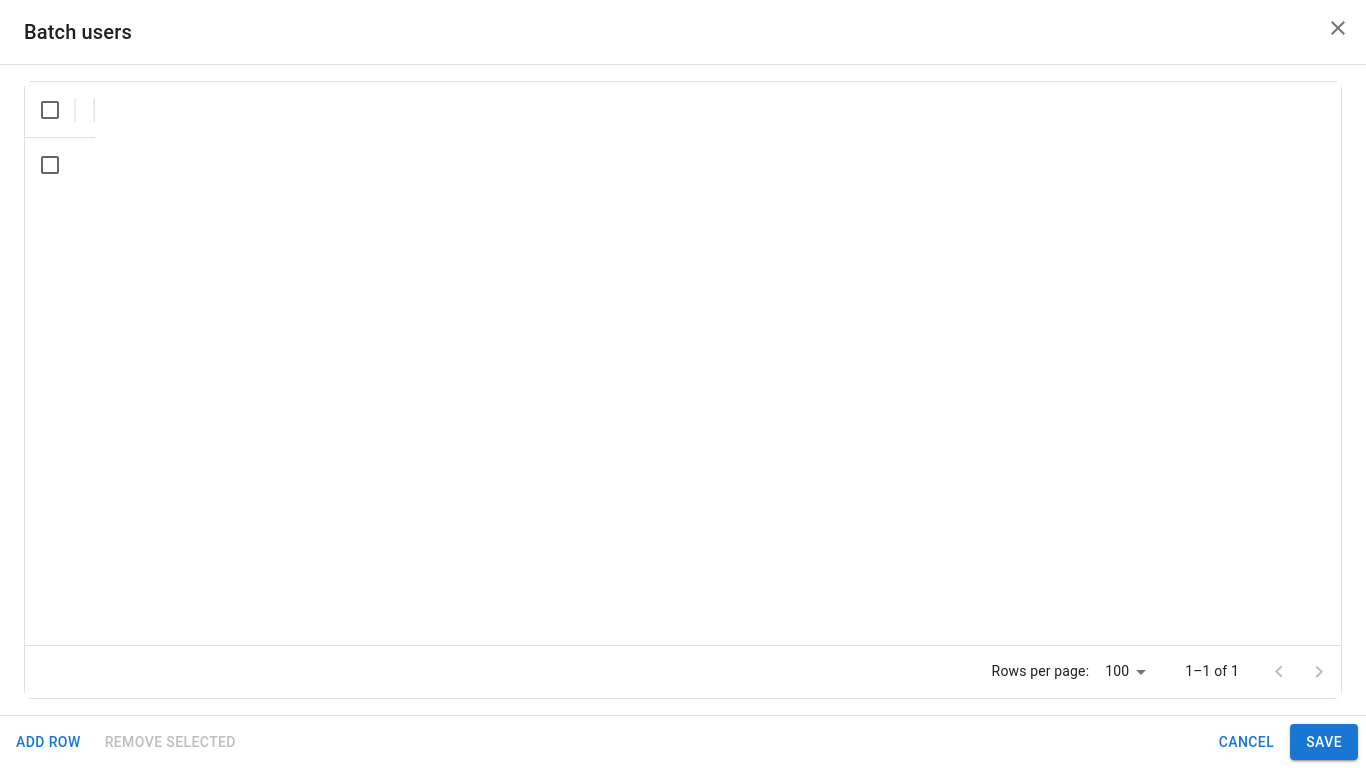
Test: BatchEntityDialog › shows mapping issues without submitting
The width and height of the screenshot is (1366, 768).
Click the button "Save": x=1324, y=742 [1290,724,1358,760]
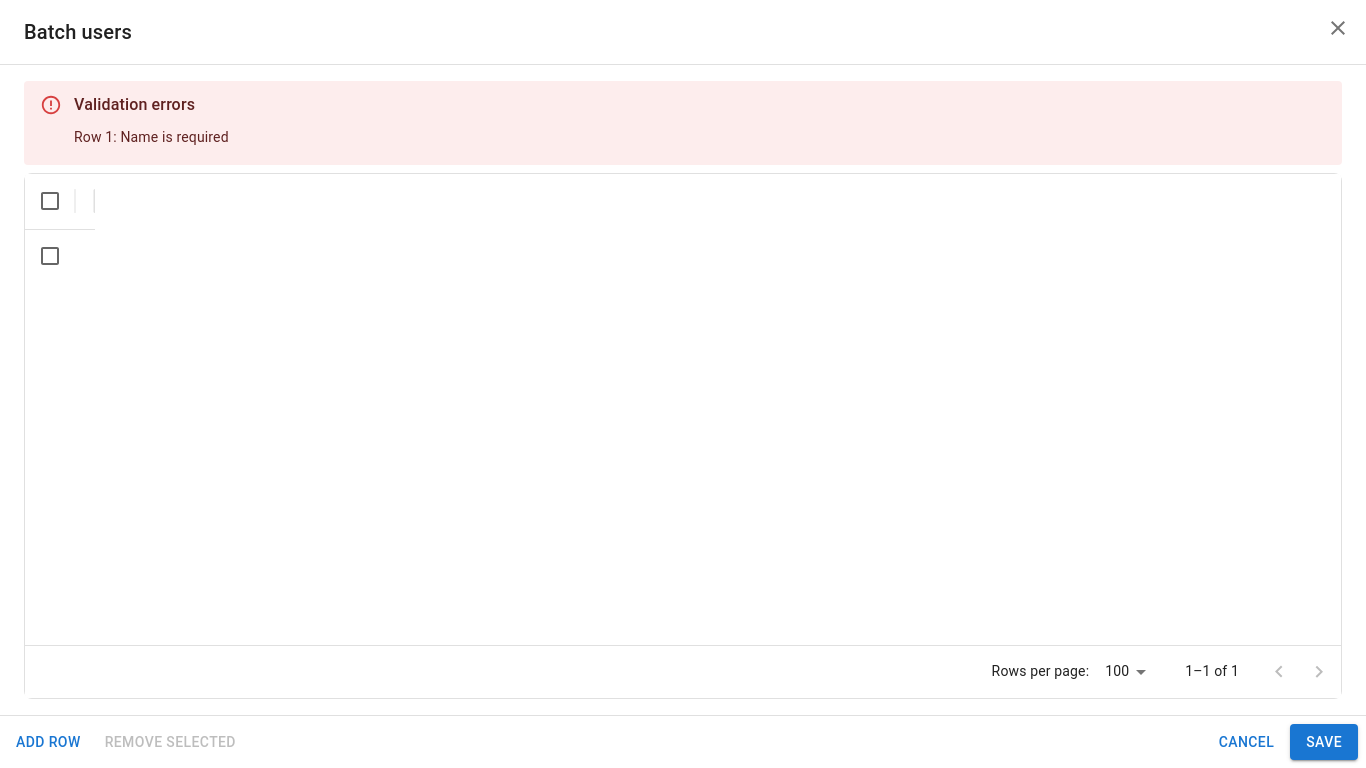
Expected: the list item "Row 1: Name is required" is shown, [74,129,229,145]
